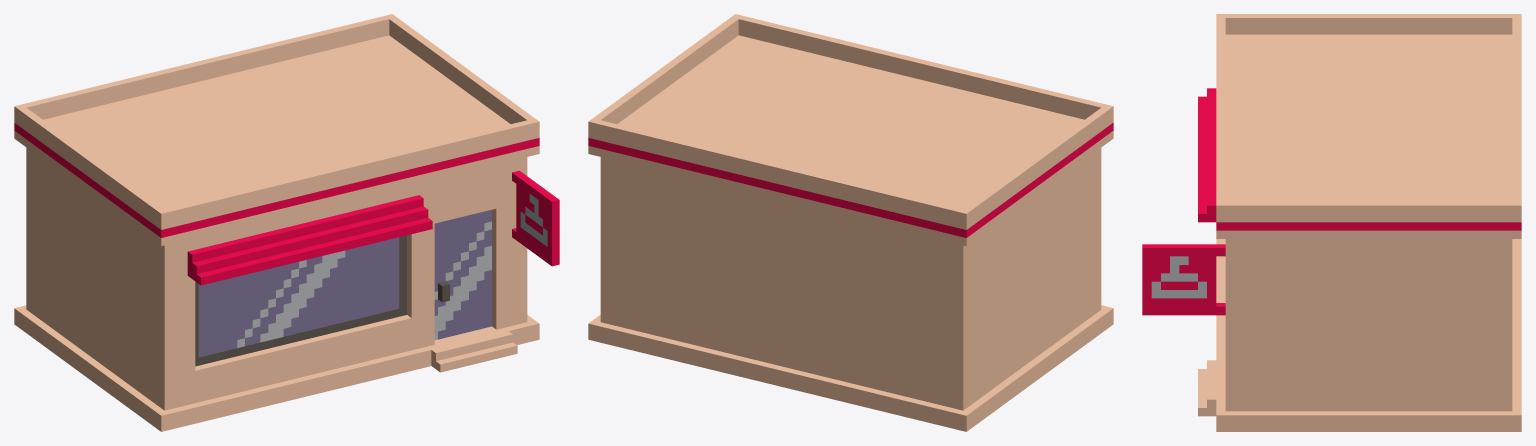
The model's file is clothes_shop_b.obj.
3 renders of one model, left to right at view 1: azimuth 30°, elevation 25°; view 2: azimuth 150°, elevation 25°; view 3: azimuth 270°, elevation 25°, orthographic. The views are drawn at different scales.
Size of the model in its own units: 4.9 by 2.7 by 4.1.
Materials: 1 (1 with a texture image).
